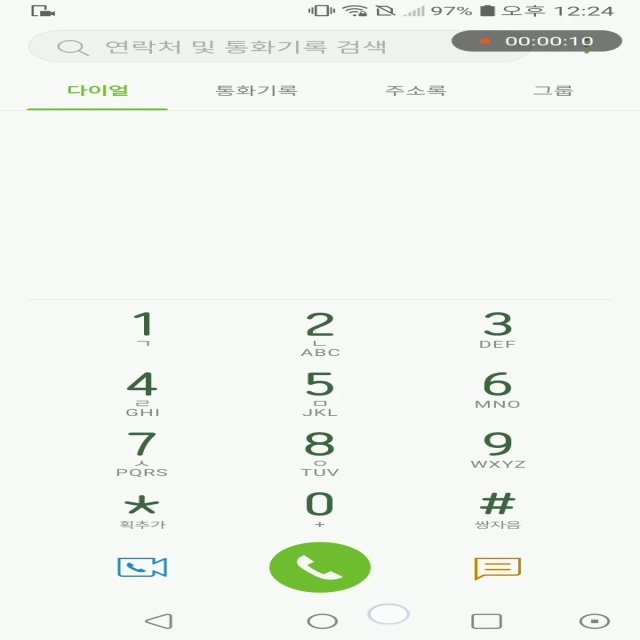Cursor: (368, 604, 412, 626)
